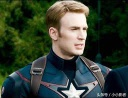male: (44, 1, 95, 64)
